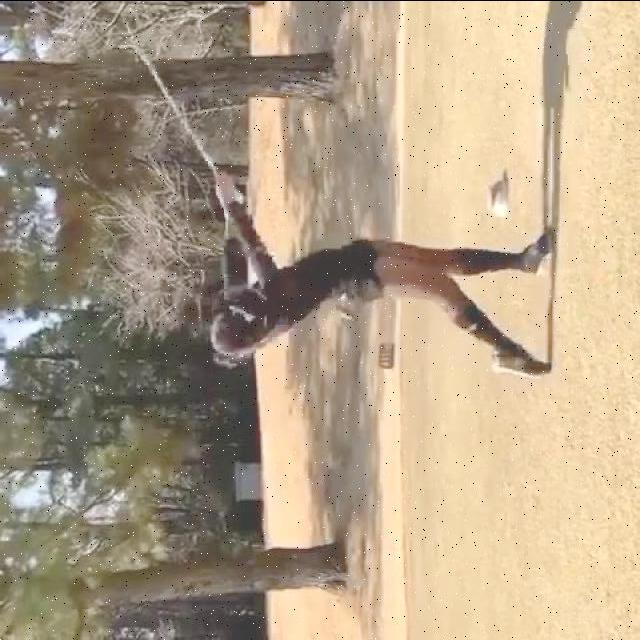golf club-handle: (104, 0, 221, 180)
